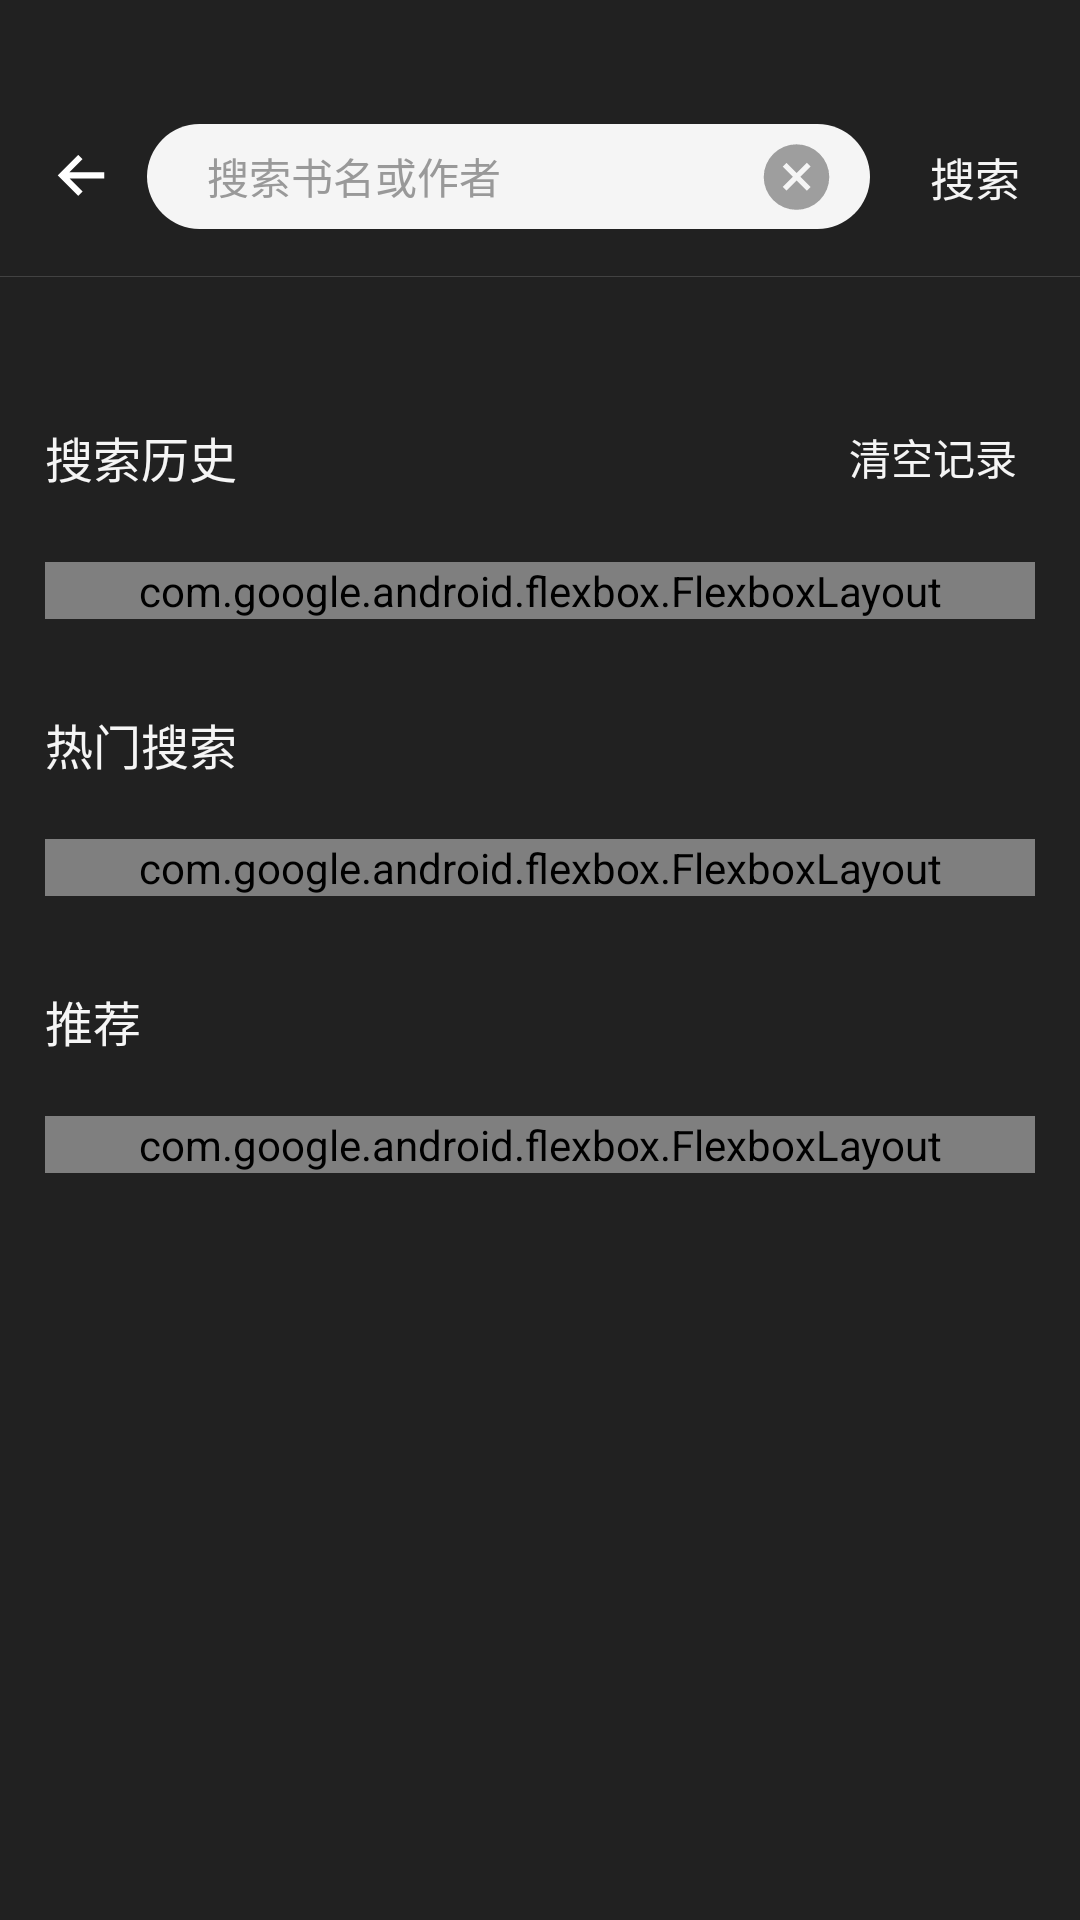

Where to tap for icons on this 1080px x 1920px app screen, as point (x, y):
back: point (81, 175)
search close: point (796, 176)
